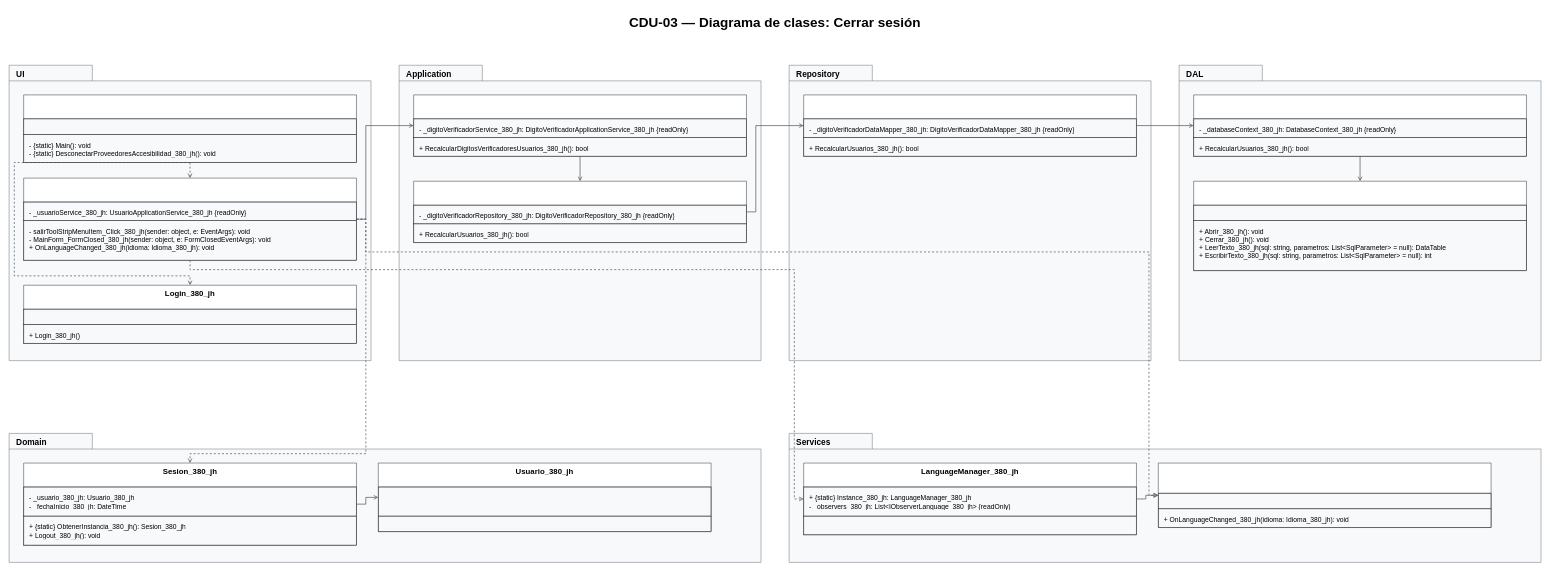
Some shapes in this 1550 by 571 pixel diagram are drawn without their labels. Here are the shapes that lost their labels. From the top down, the box of each, then its label:
(23, 94, 356, 162): Program_380_jh
(413, 94, 746, 156): UsuarioApplicationService_380_jh
(803, 94, 1136, 156): DigitoVerificadorRepository_380_jh
(1193, 94, 1526, 156): DigitoVerificadorDataMapper_380_jh
(23, 178, 356, 260): MainForm_380_jh
(413, 181, 746, 243): DigitoVerificadorApplicationService_380_jh
(1193, 181, 1526, 271): DatabaseContext_380_jh
(378, 486, 711, 516): + Id_380_jh: int + Username_380_jh: string
(1158, 463, 1491, 528): «interface» IObserverLanguage_380_jh
(803, 516, 1136, 535): + Detach_380_jh(observer: IObserverLanguage_380_jh): void
